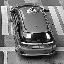mobil: (9, 2, 56, 59)
